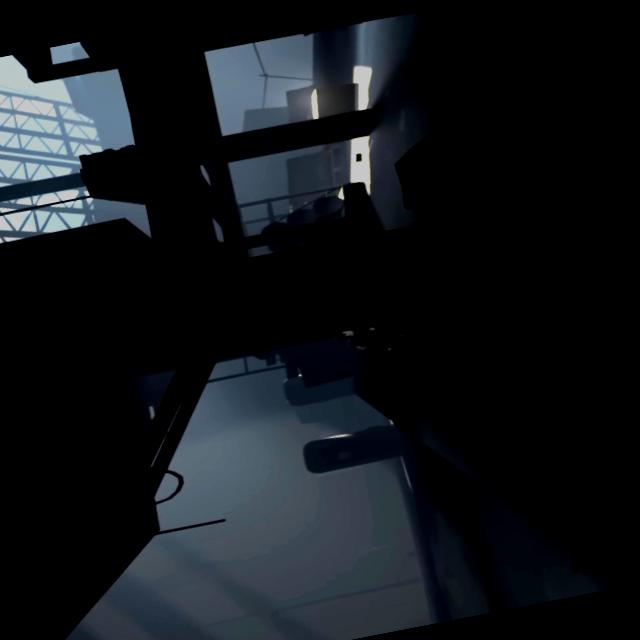boy: (332, 316, 417, 362)
